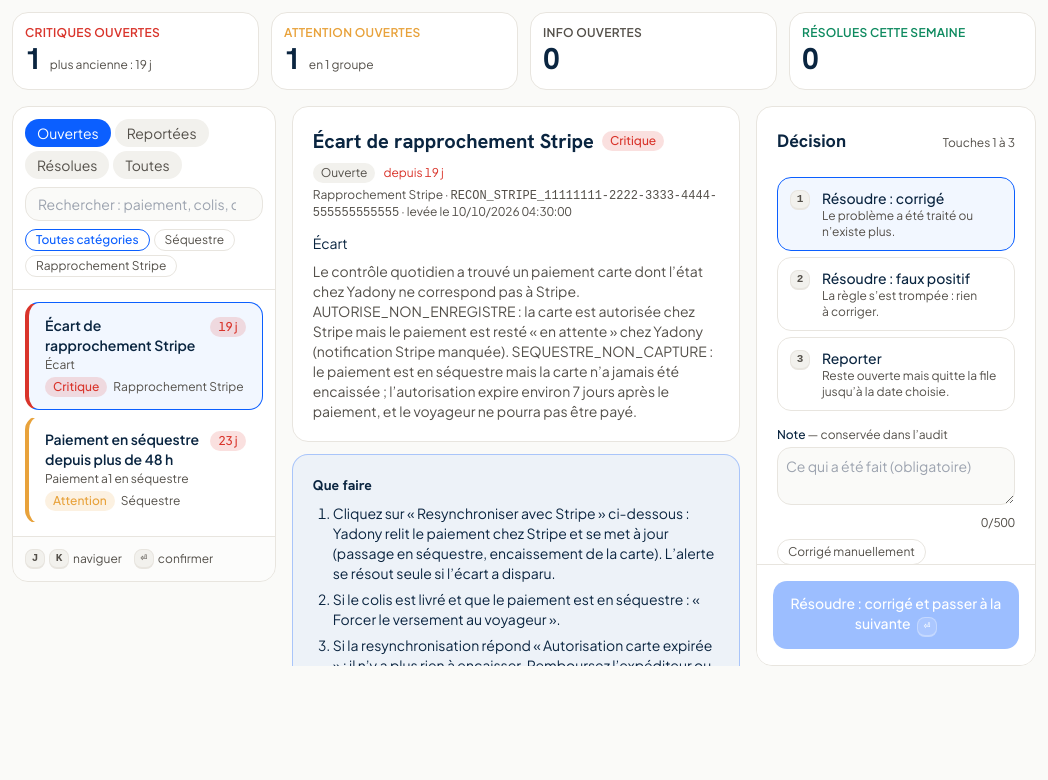
Scenario: pages/alertes › recherche et catégorie réduisent la file sans recharger
Step 1. Type "11111111-2222-3333-4444-555555555555" into the search field with test id "alert-search" → (144, 204), box [25,187,263,221]
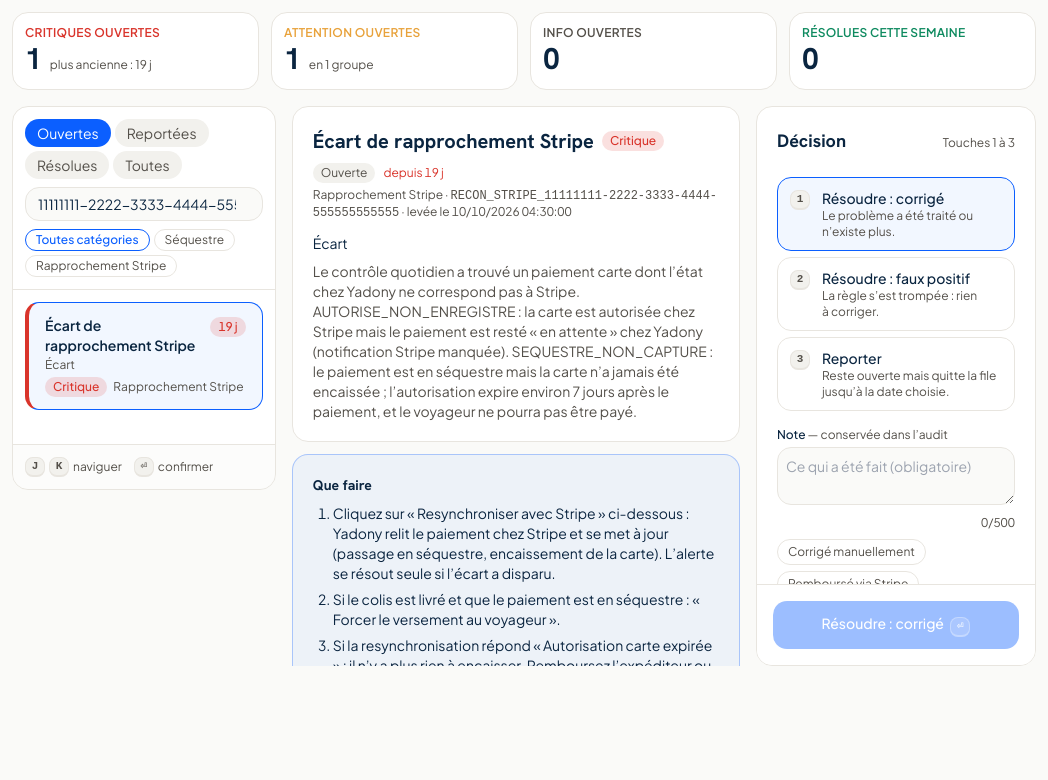
Expected: the element with test id "alert-row-a2" is shown, [25,302,263,410]
Step 2. Clear the search field with test id "alert-search" → (144, 204), box [25,187,263,221]
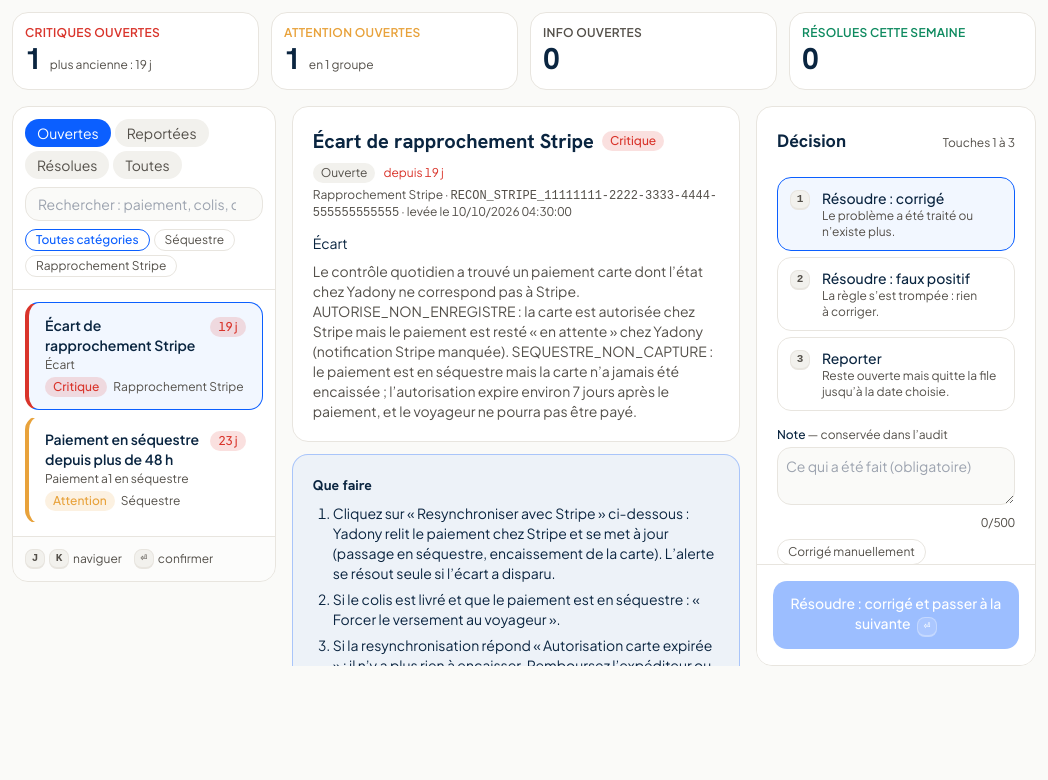
Step 3. Click the button with test id "category-Séquestre" → (194, 240), box [154,229,235,251]
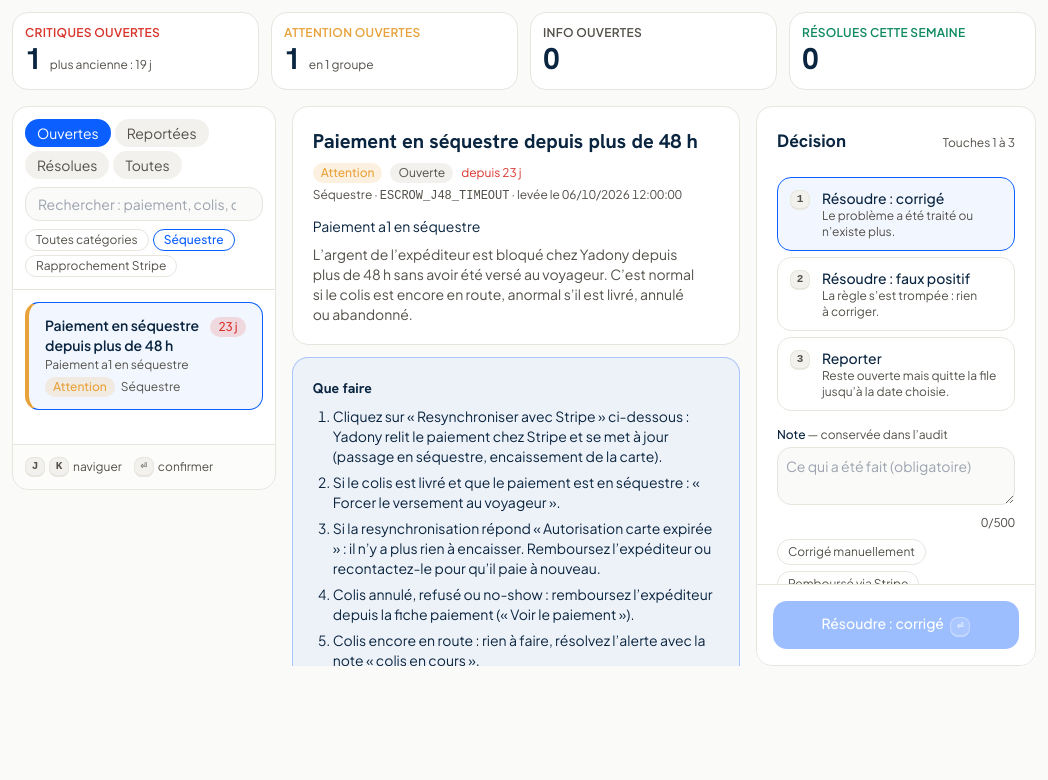
Expected: the element with test id "alert-row-a1" is shown, [25,302,263,410]
Step 4. Click the button with test id "category-Séquestre" → (194, 240), box [153,229,235,251]
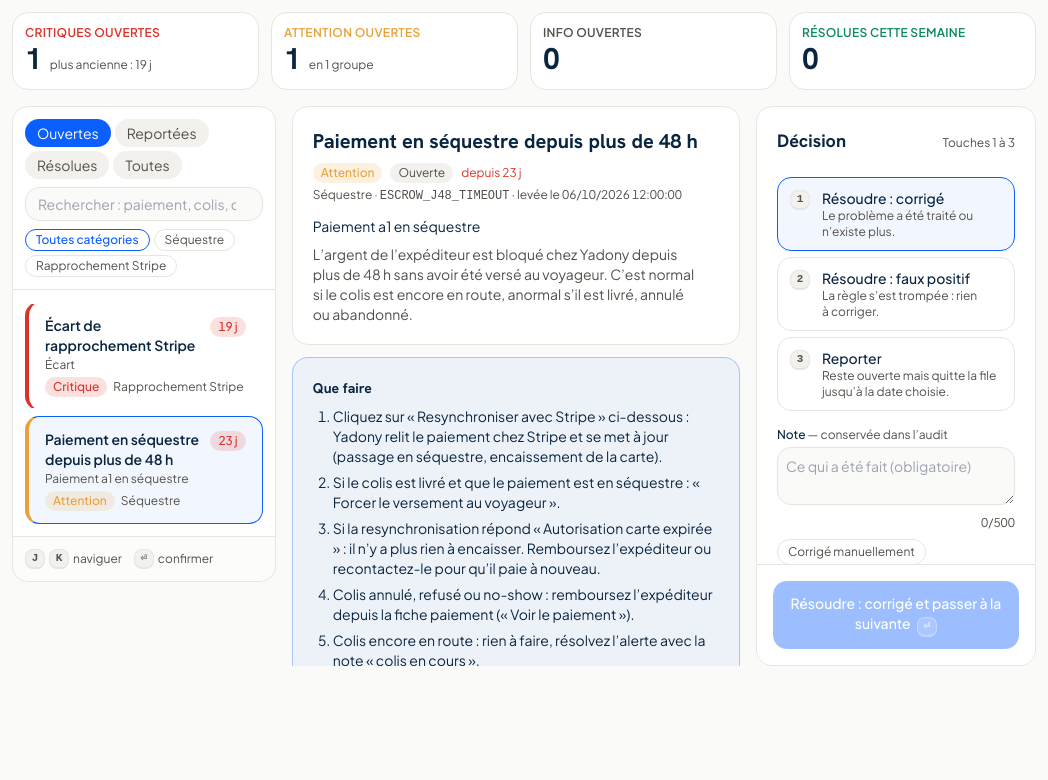
Result: the element with test id "alert-row-a2" is shown at [25,302,263,410]
